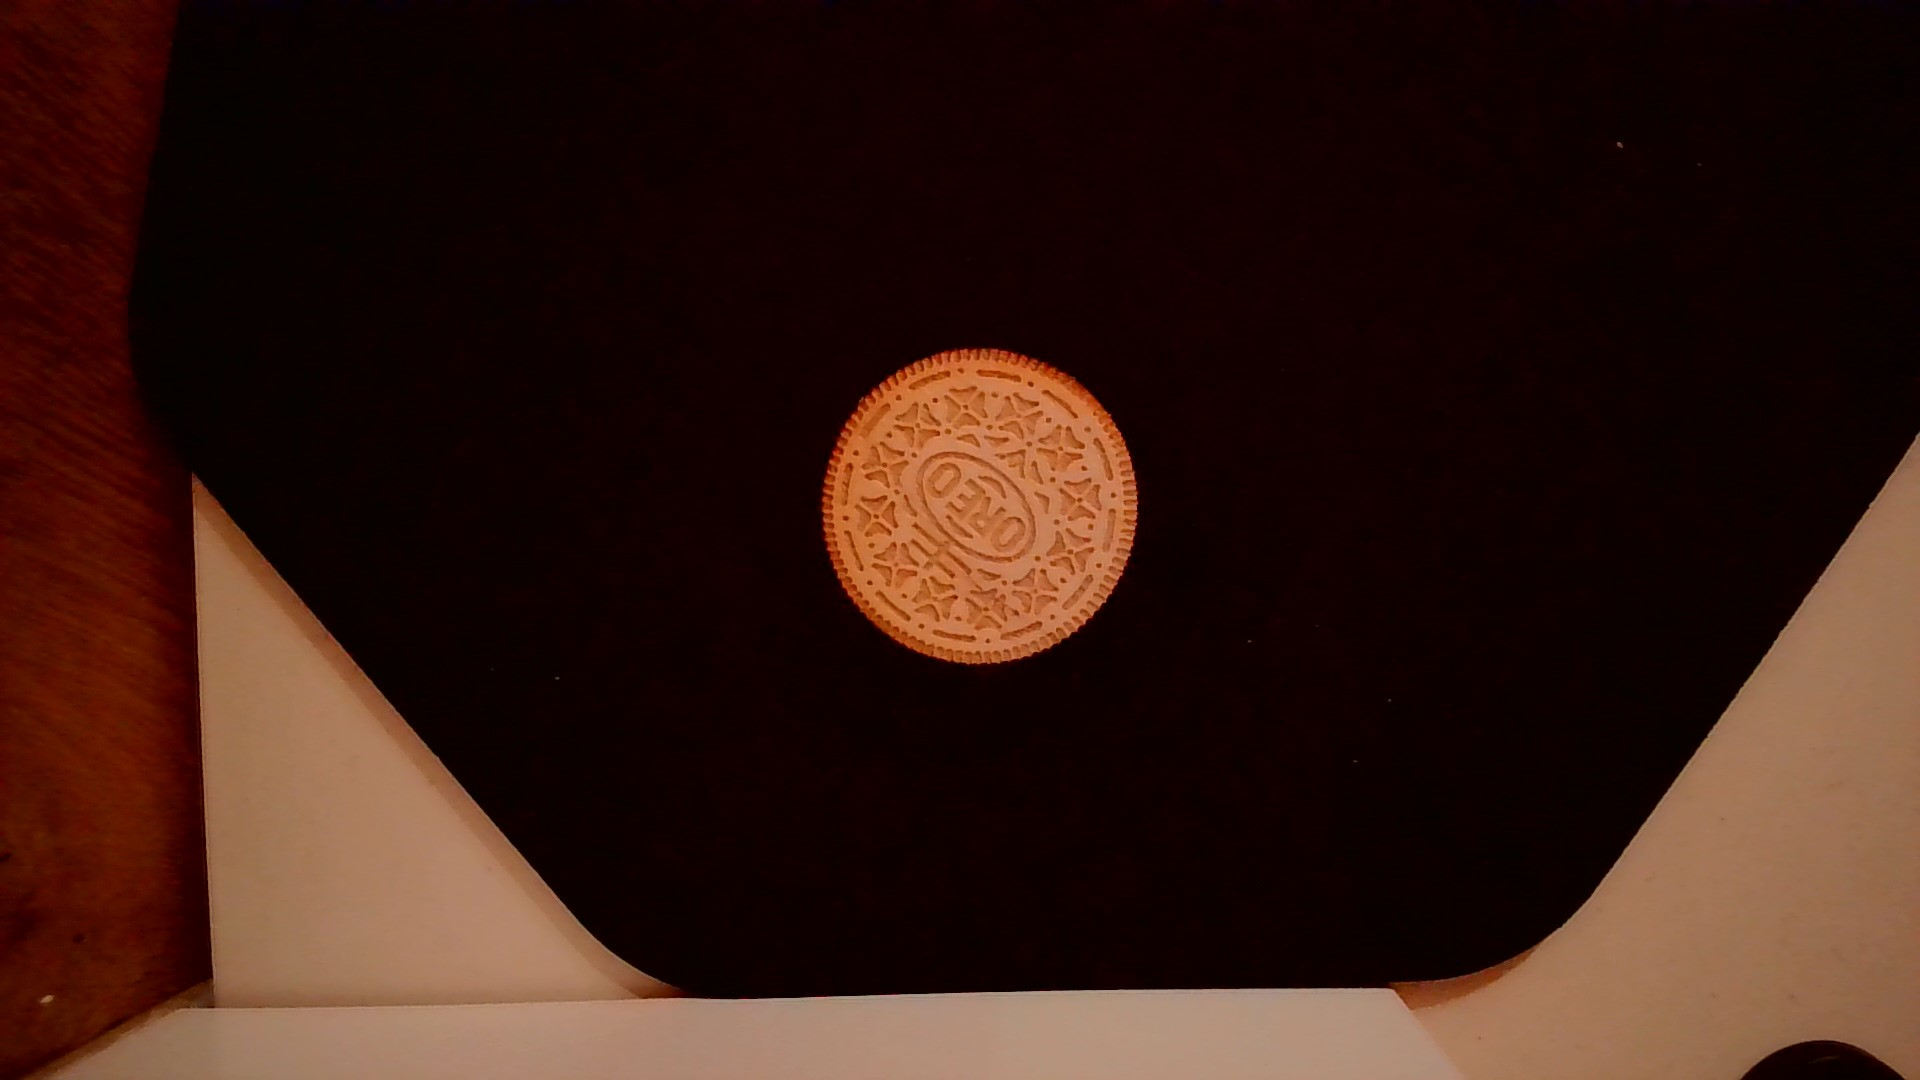Oréo: (808, 335, 1146, 684)
